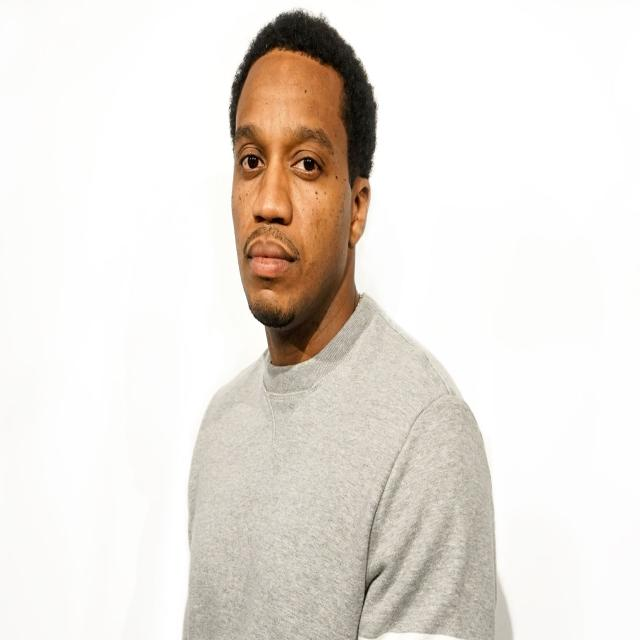mobile_phonerotation: (180, 8, 498, 638)
